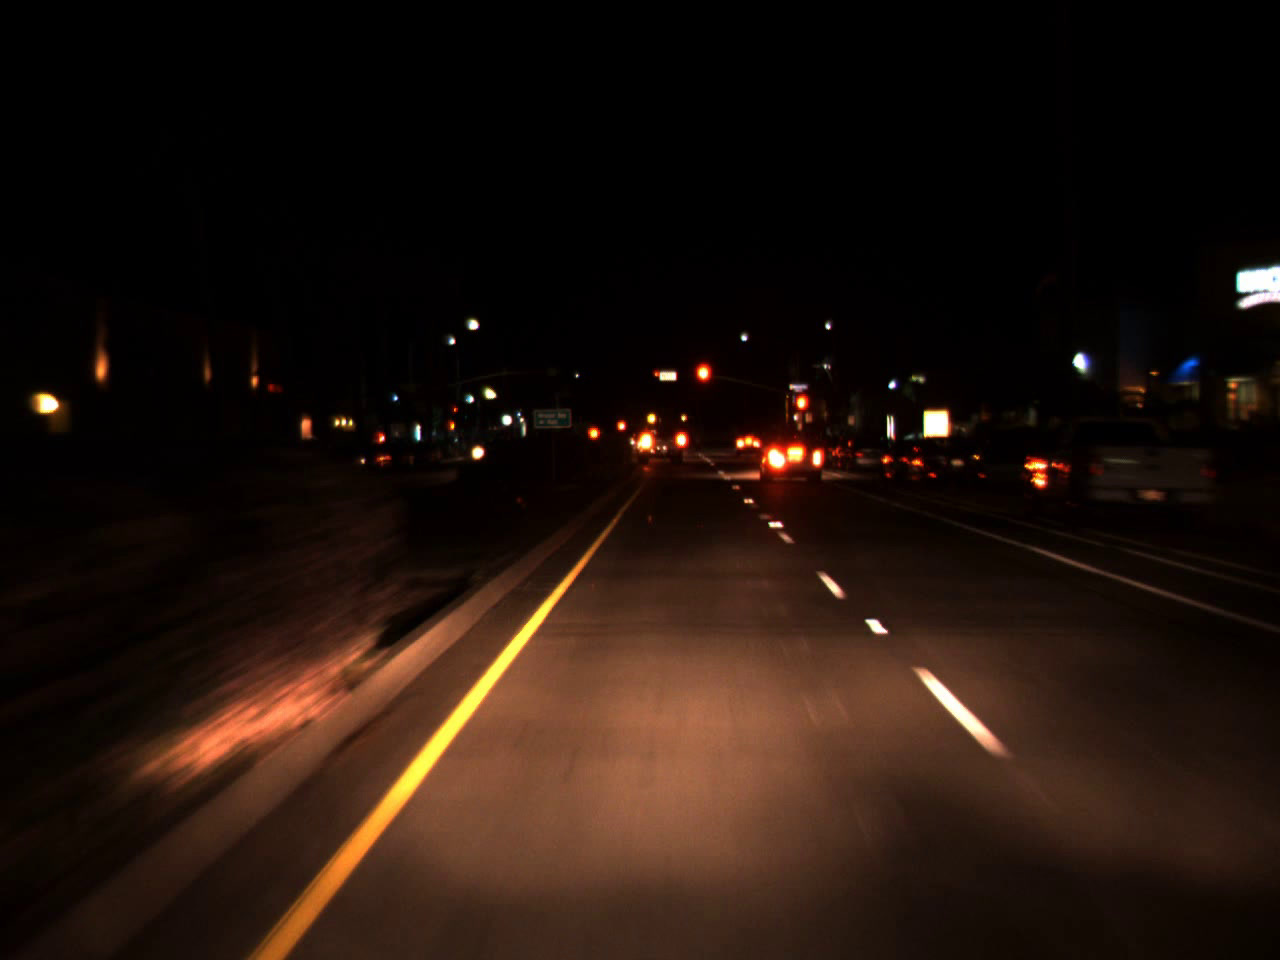stop: (693, 359, 714, 404), (793, 391, 811, 431), (653, 371, 660, 381)
